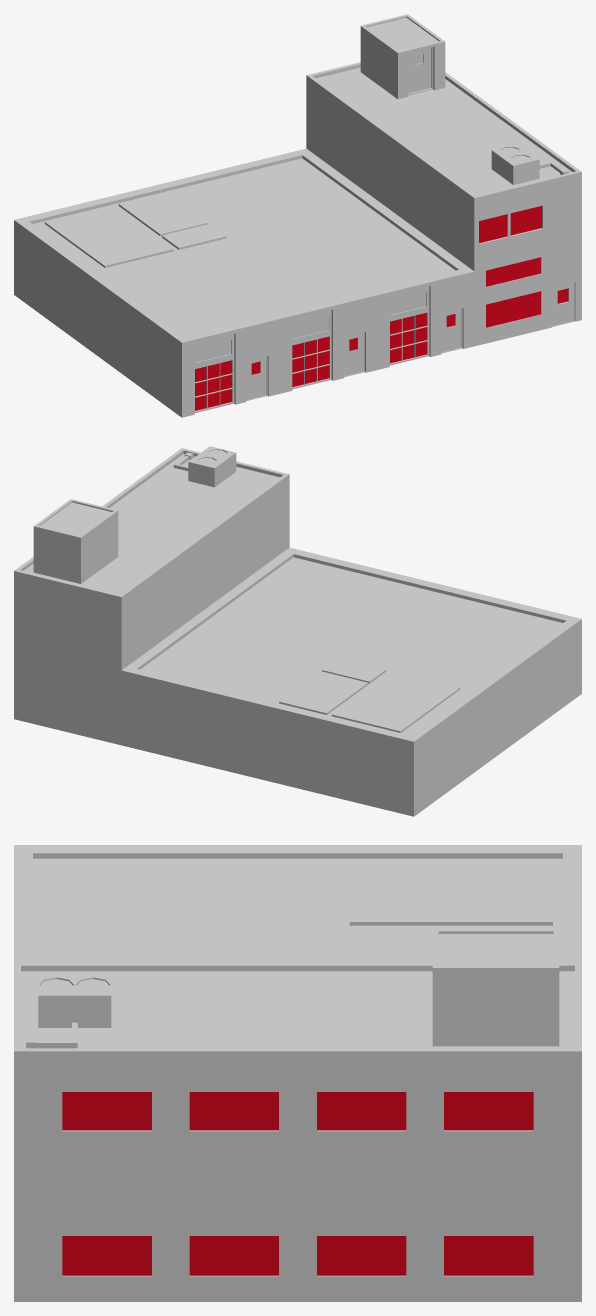
The model's file is SM_tram_depot_01.glb.
The picture shows the model from 3 angles, top to bottom: view 1: azimuth 30°, elevation 25°; view 2: azimuth 150°, elevation 25°; view 3: azimuth 270°, elevation 25°; orthographic projection. The views are drawn at different scales.
Parts seen in each view (by area): view 1: tram_depot_01; view 2: tram_depot_01; view 3: tram_depot_01.
Part boxes in pixels (x1,y1,x2,y2): tram_depot_01: (14, 14, 581, 417); tram_depot_01: (14, 446, 581, 816); tram_depot_01: (14, 845, 581, 1301).
Size of the model in its own units: 22 by 10.05 by 16.
